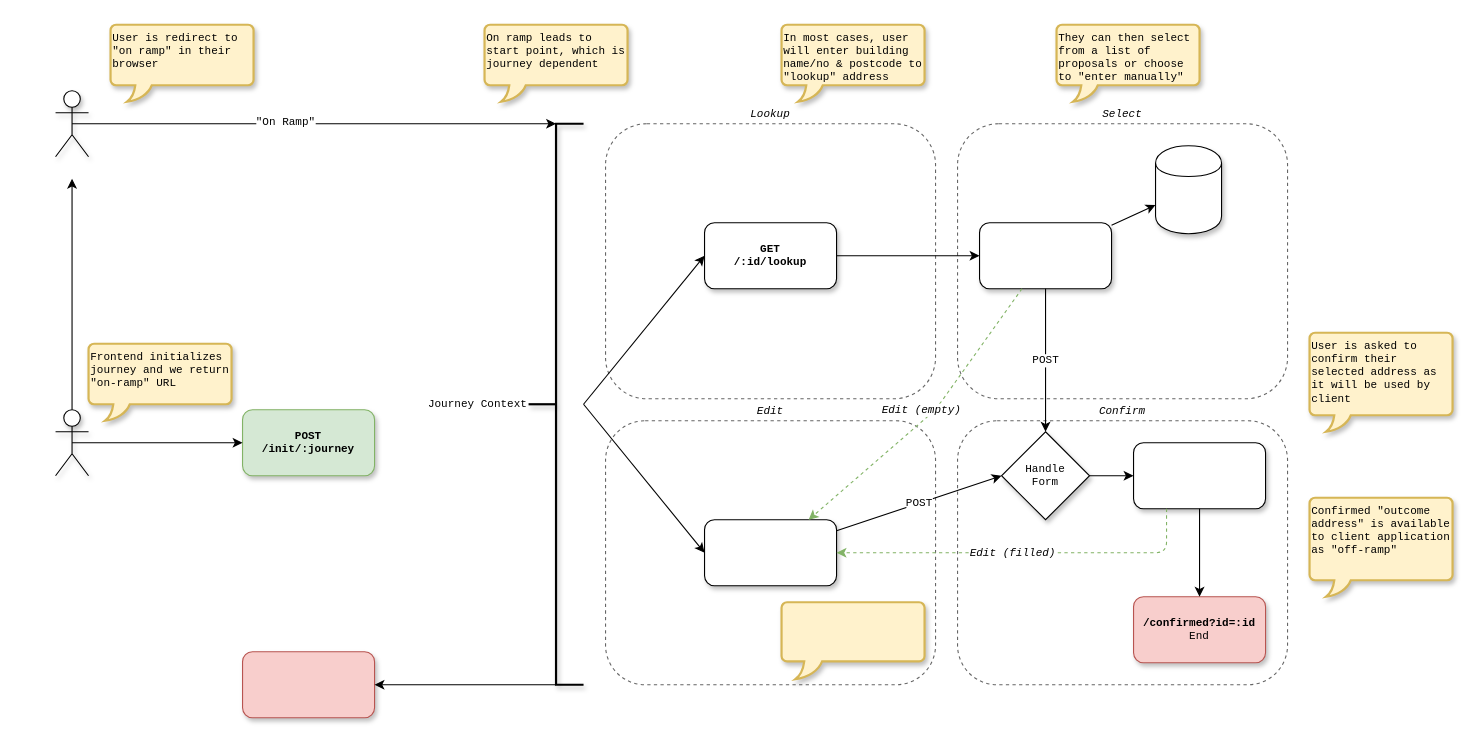
This 1480x745 diagram has some shape labels left out. Each missing label, with the centre of its shape:
/no-journey End: pixel 309 685
address lookup: pixel 1189 190
Edit form, either pre-populated from proposals or empty: pixel 854 642
Front-end Client: pixel 72 443
GET /:id/confirm: pixel 1200 476
GET /:id/edit: pixel 771 553
GET /:id/select? postcode={}& filter={}: pixel 1046 256
Web User: pixel 72 124
